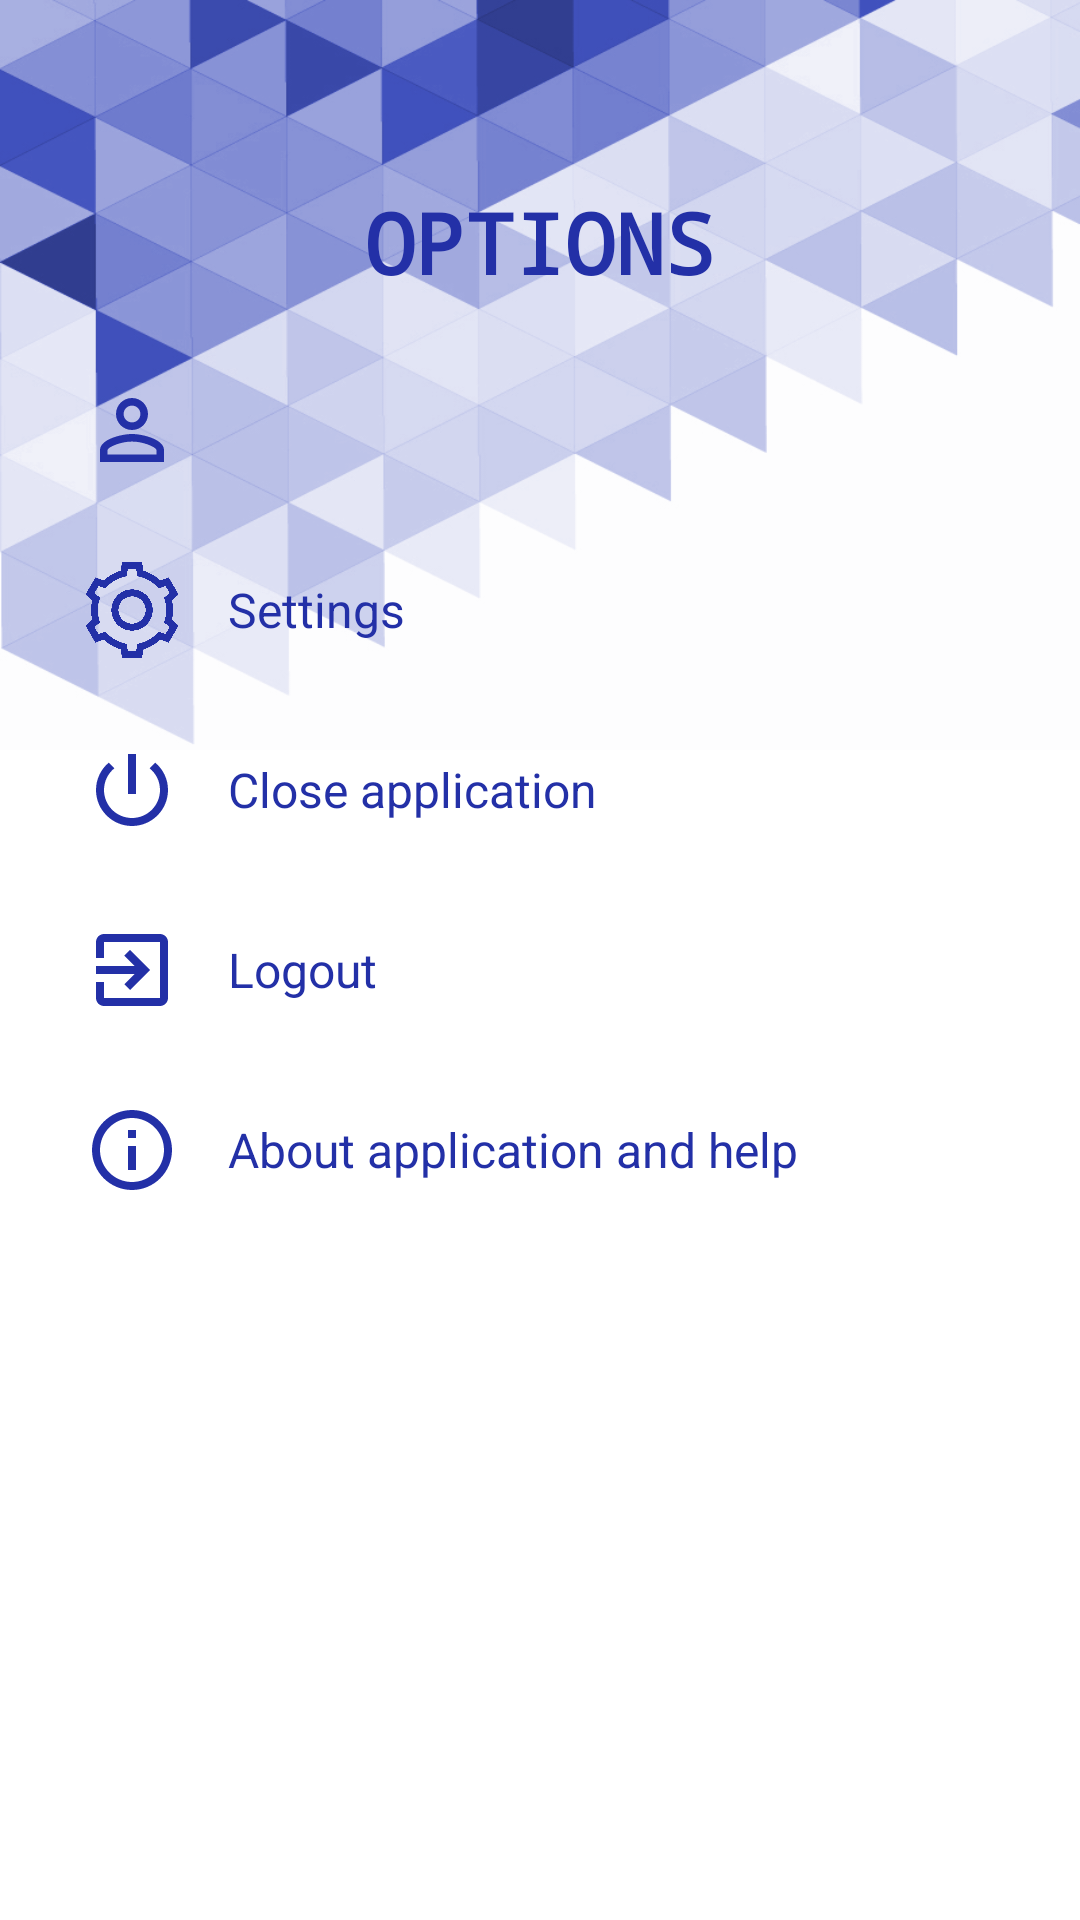

Screen size 1080 x 1920. Icon name, then its center in pixels as [x,y]:
exit: [132,970]
info: [132,1150]
logged user: [132,430]
